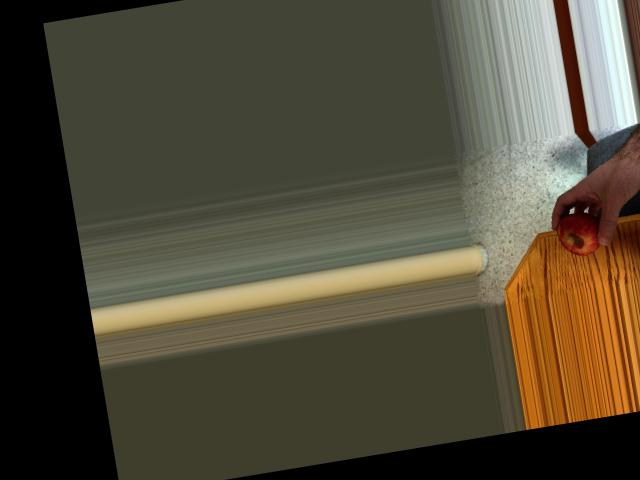apple: (551, 206, 610, 261)
